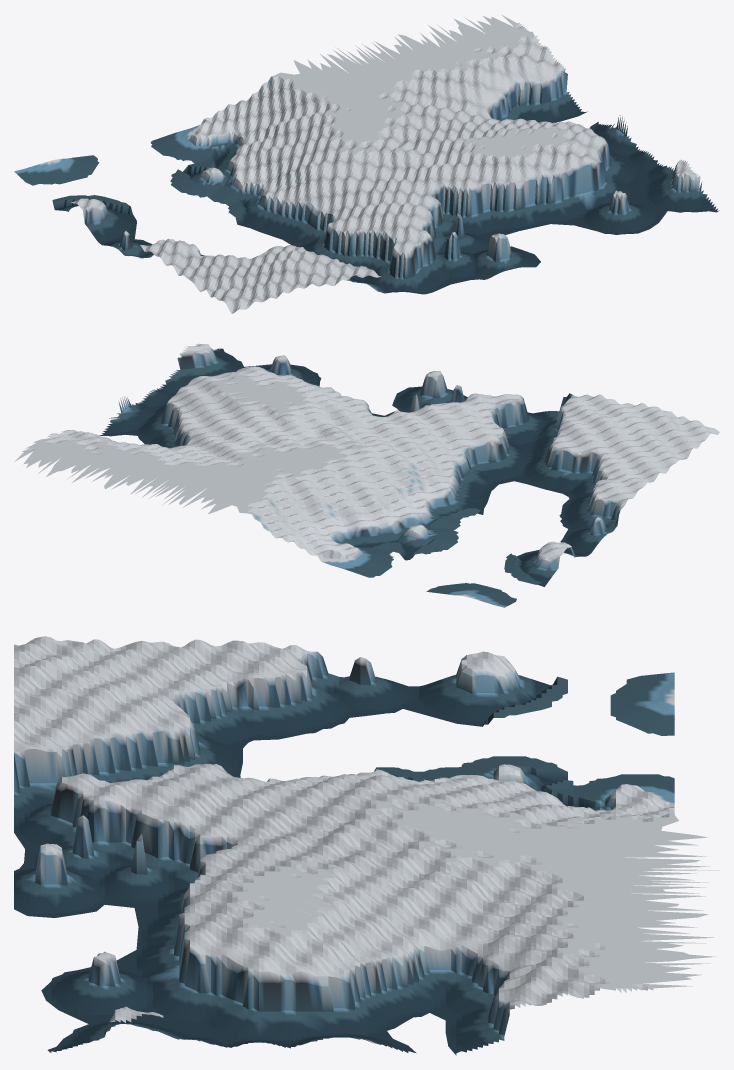
The model's file is frost_tile_x0z1.glb.
3 renders of one model, top to bottom at view 1: azimuth 30°, elevation 25°; view 2: azimuth 150°, elevation 25°; view 3: azimuth 270°, elevation 25°, orthographic. The views are drawn at different scales.
Parts seen in each view (by area): view 1: geometry_0; view 2: geometry_0; view 3: geometry_0.
Boxes of the visible parts, box(x1,y1,x2,y2) form: geometry_0: box(14, 14, 719, 313); geometry_0: box(14, 343, 719, 607); geometry_0: box(14, 636, 719, 1055).
Size of the model in its own units: 984 by 78 by 795.
